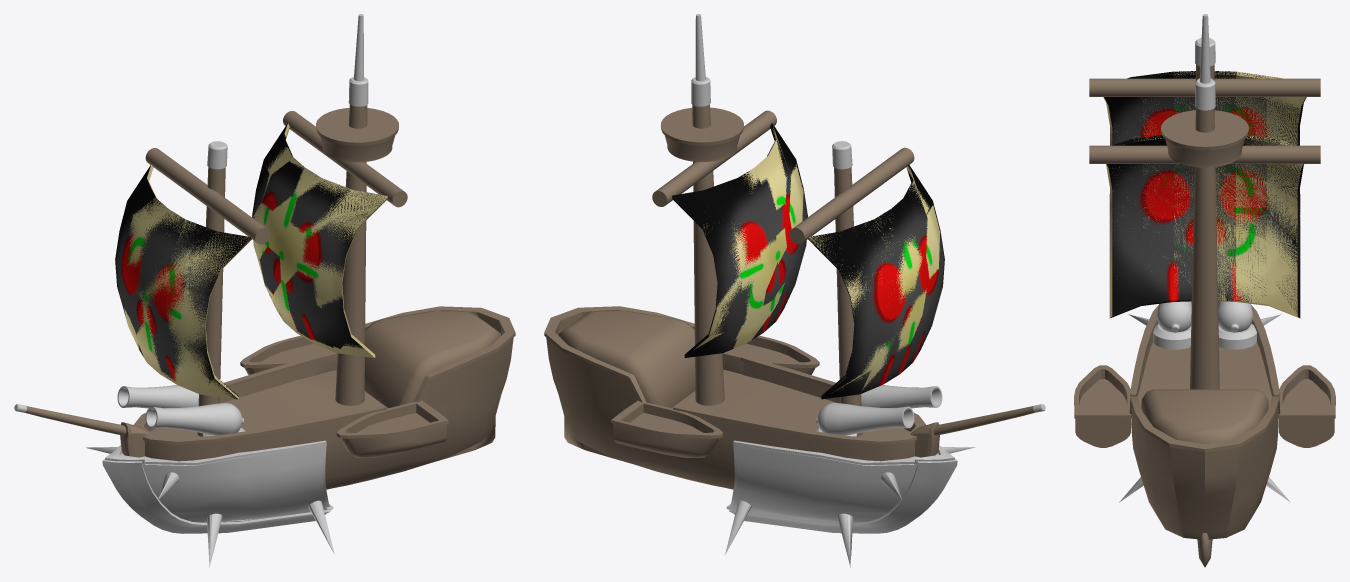
Rendered from Barco.fbx.
The picture shows the model from 3 angles, left to right: view 1: azimuth 30°, elevation 25°; view 2: azimuth 150°, elevation 25°; view 3: azimuth 270°, elevation 25°; orthographic projection. The views are drawn at different scales.
Visible parts, largest first — view 1: Casco, Cube.006, Vela_Delantera_3, Vela_Trasera_3, Vela_Delantera_1, Vela_Trasera_1, Puente, Mástil 2, Barca_L, Cofa, Mástil 1, Palo_1 (+7 smaller); view 2: Casco, Vela_Delantera_3, Cube.006, Vela_Trasera_3, Puente, Vela_Trasera_1, Mástil 2, Barca_R, Vela_Delantera_1, Cofa, Mástil 1, Palo_1 (+7 smaller); view 3: Vela_Trasera_3, Casco, Vela_Trasera_1, Mástil 2, Vela_Delantera_3, Puente, Palo_1, Barca_R, Barca_L, Cofa, Vela_Delantera_1, Palo_2 (+6 smaller).
Part boxes in pixels (box(x1,y1,x2,y2)): Casco: box(134, 306, 515, 489); Cube.006: box(102, 444, 330, 533); Vela_Delantera_3: box(115, 165, 251, 399); Vela_Trasera_3: box(252, 123, 384, 348); Vela_Delantera_1: box(124, 165, 251, 399); Vela_Trasera_1: box(252, 123, 387, 357); Puente: box(364, 310, 500, 408); Mástil 2: box(335, 14, 368, 405); Barca_L: box(336, 400, 448, 457); Cofa: box(316, 108, 398, 162); Mástil 1: box(197, 141, 227, 436); Palo_1: box(145, 148, 270, 244); Casco: box(544, 306, 925, 489); Vela_Delantera_3: box(808, 164, 944, 399); Cube.006: box(729, 444, 957, 533); Vela_Trasera_3: box(672, 123, 807, 357); Puente: box(558, 310, 695, 407); Vela_Trasera_1: box(693, 126, 803, 350); Mástil 2: box(691, 14, 724, 405); Barca_R: box(611, 400, 722, 457); Vela_Delantera_1: box(809, 165, 940, 393); Cofa: box(660, 107, 743, 161); Mástil 1: box(832, 141, 862, 436); Palo_1: box(789, 147, 914, 244); Vela_Trasera_3: box(1106, 135, 1303, 317); Casco: box(1129, 301, 1280, 539); Vela_Trasera_1: box(1106, 135, 1303, 317); Mástil 2: box(1190, 14, 1219, 389); Vela_Delantera_3: box(1104, 71, 1306, 255); Puente: box(1141, 389, 1268, 443); Palo_1: box(1089, 78, 1320, 96); Barca_R: box(1278, 365, 1335, 447); Barca_L: box(1074, 365, 1131, 447); Cofa: box(1161, 110, 1248, 167); Vela_Delantera_1: box(1103, 71, 1305, 255); Palo_2: box(1089, 145, 1320, 163).
Size of the model in its own units: 814 by 780 by 354.
